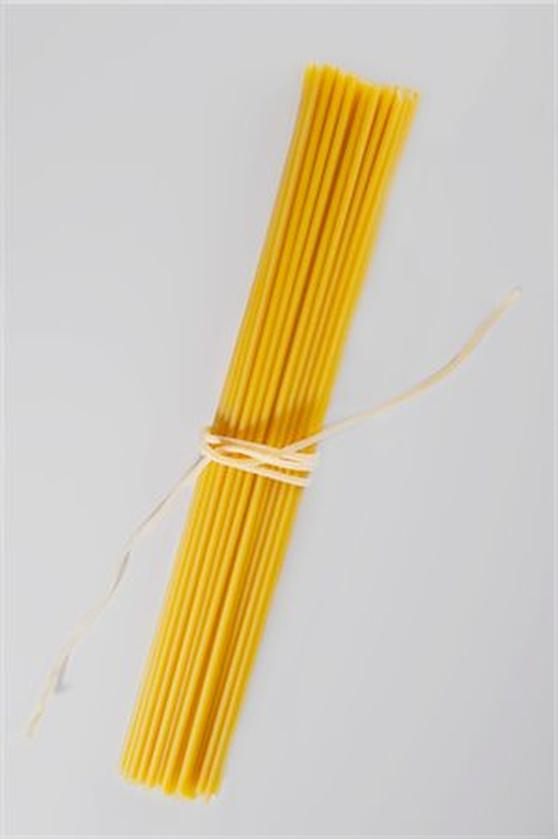spaghetti: (129, 58, 424, 793)
